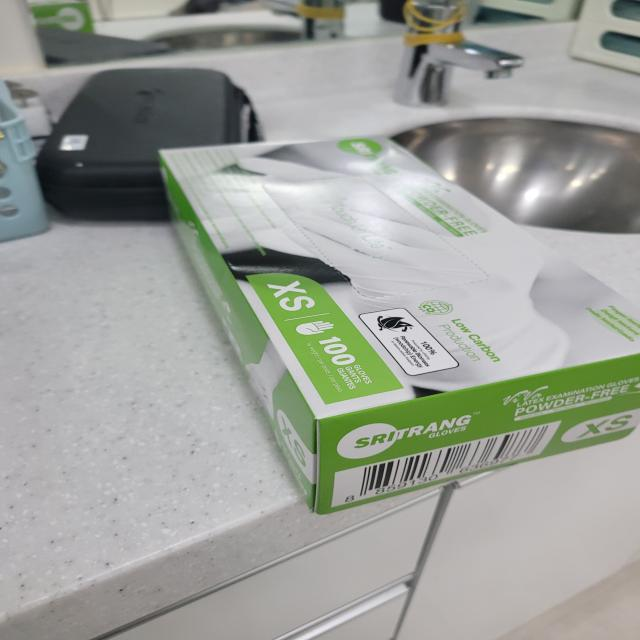glove: (113, 117, 640, 520)
